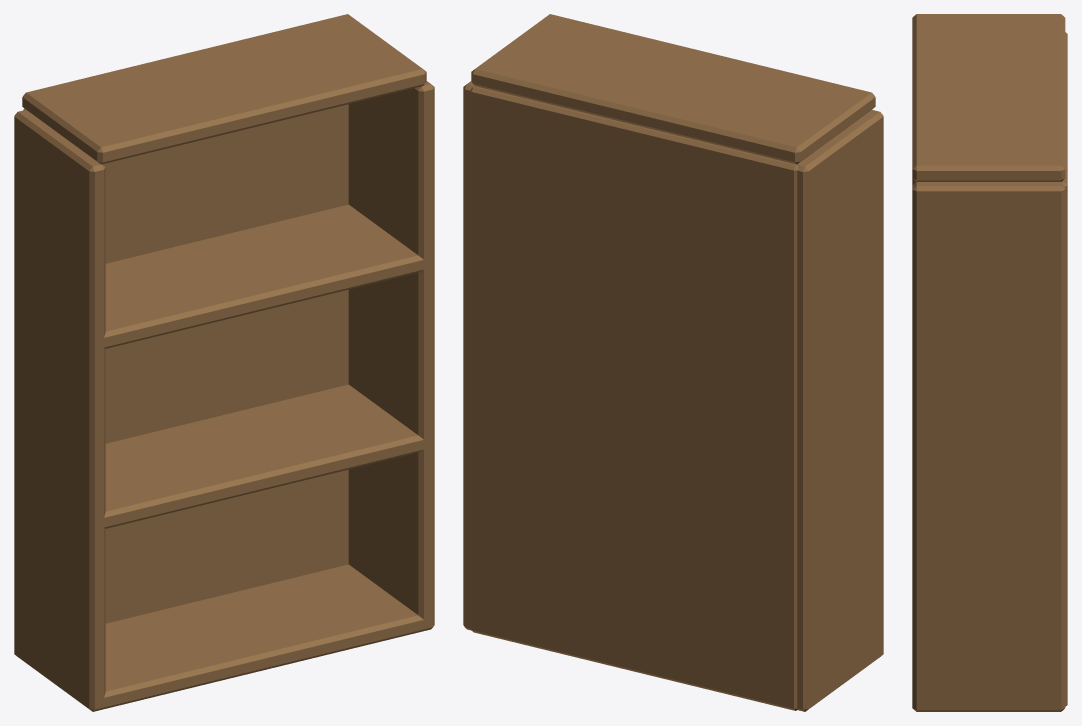
Rendered from props-shelf.lod0.glb.
3 renders of one model, left to right at view 1: azimuth 30°, elevation 25°; view 2: azimuth 150°, elevation 25°; view 3: azimuth 270°, elevation 25°, orthographic. The views are drawn at different scales.
Visible parts, largest first — view 1: props-shelf__body; view 2: props-shelf__body; view 3: props-shelf__body.
Boxes of the visible parts, bbox=[...] form: props-shelf__body: bbox=[14, 14, 434, 711]; props-shelf__body: bbox=[463, 14, 883, 711]; props-shelf__body: bbox=[912, 14, 1067, 711].
Bounding box in the file's own units: 1.26 × 1.96 × 0.5075.
